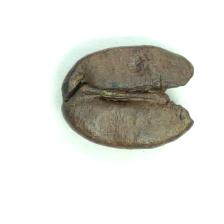NG: (160, 49, 194, 133)
